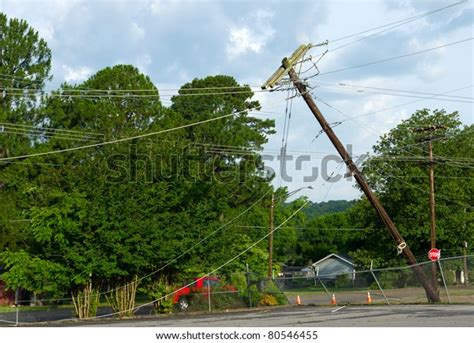pole: (258, 42, 450, 307)
